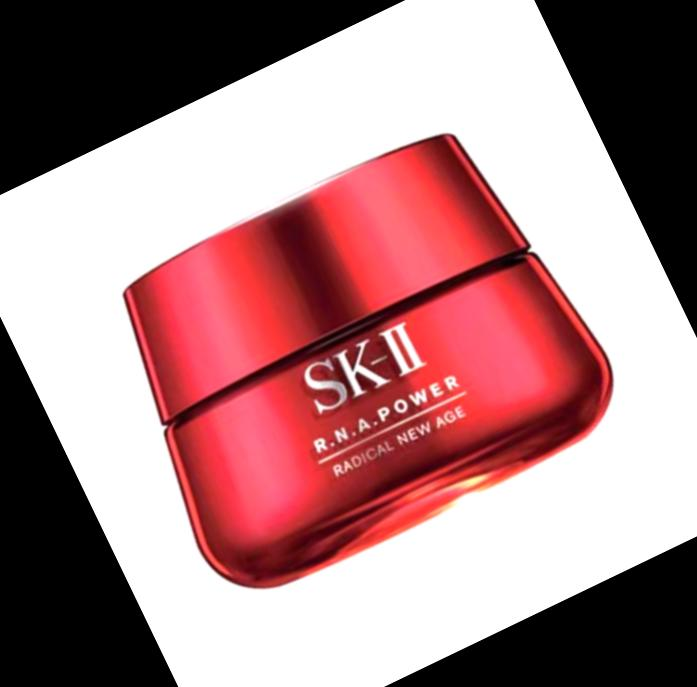cosmetic: (91, 110, 621, 598)
